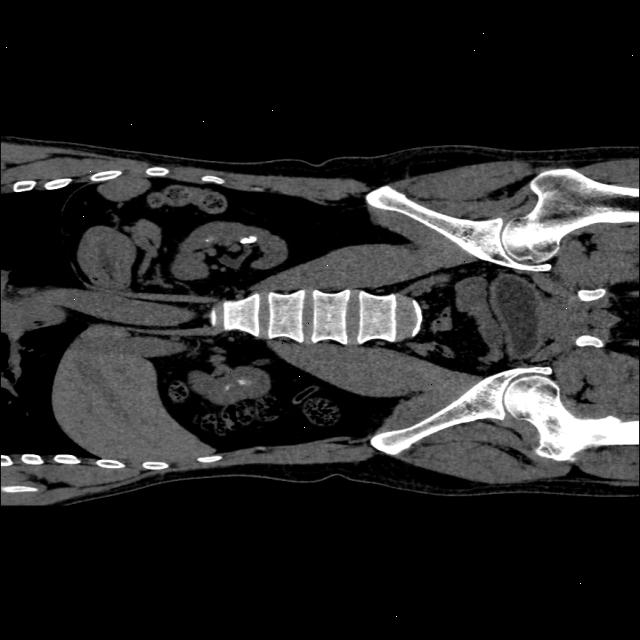kidneystone: (239, 235, 257, 244)
